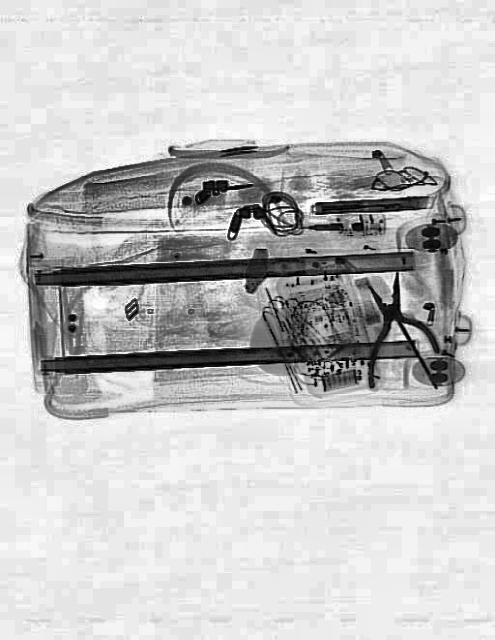Pliers: (343, 260, 443, 390)
